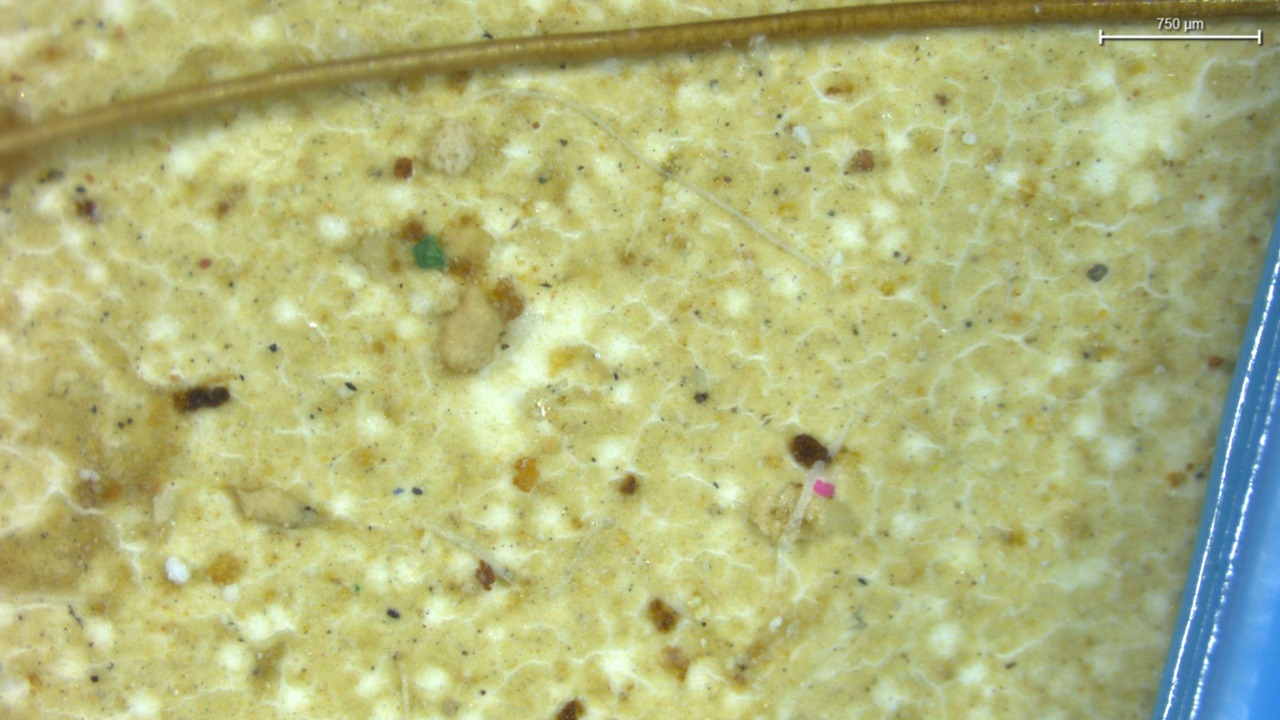microplastic_fragment: (438, 300, 505, 378)
